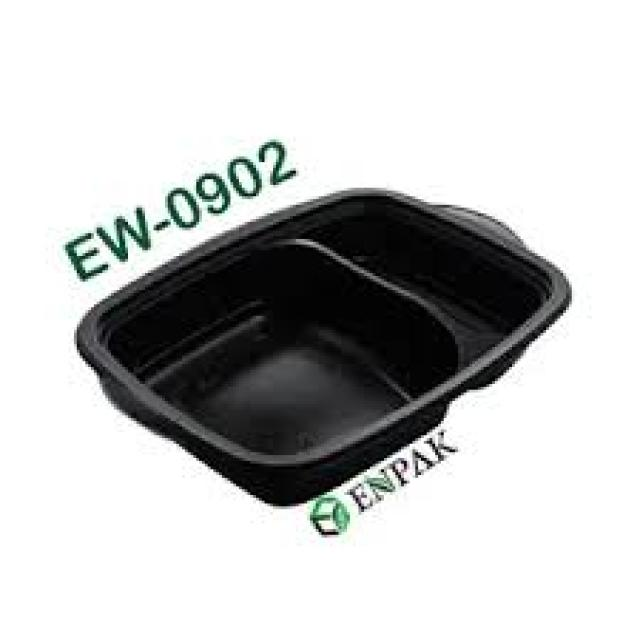disposable: (59, 165, 601, 506)
